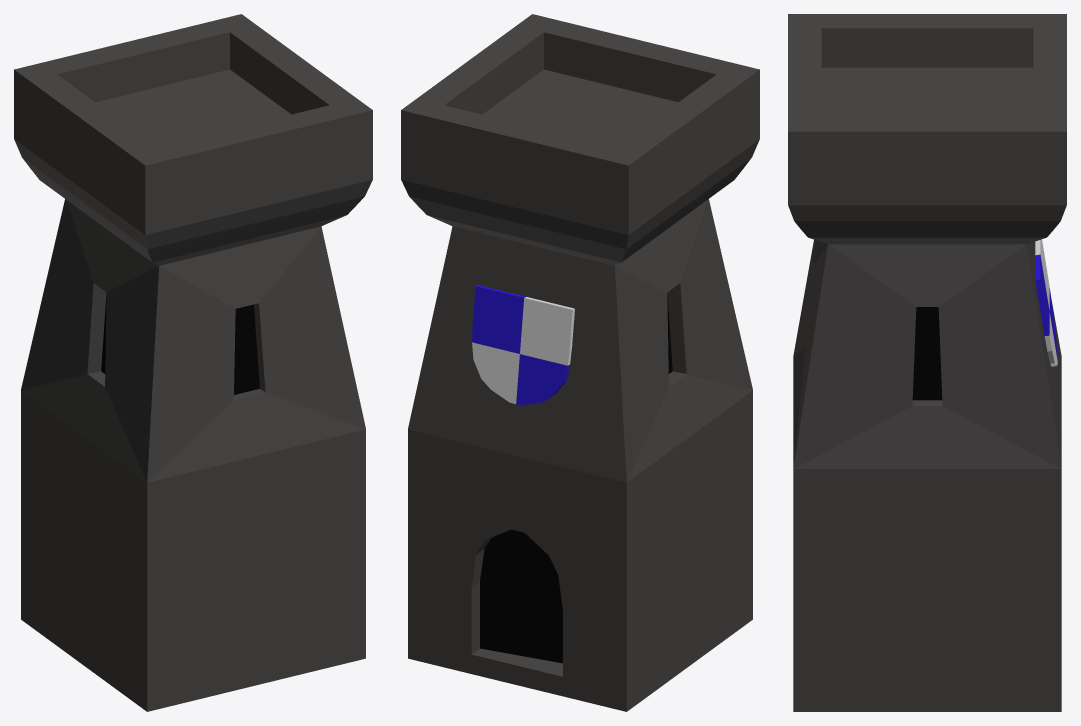
The model's file is Barrack.fbx.
3 renders of one model, left to right at view 1: azimuth 30°, elevation 25°; view 2: azimuth 150°, elevation 25°; view 3: azimuth 270°, elevation 25°, orthographic. The views are drawn at different scales.
Parts seen in each view (by area): view 1: Barrack; view 2: Barrack; view 3: Barrack.
Part boxes in pixels (x1,y1,x2,y2): Barrack: (14, 14, 372, 711); Barrack: (401, 14, 759, 711); Barrack: (788, 14, 1066, 711).
Size of the model in its own units: 137 by 316 by 137.
